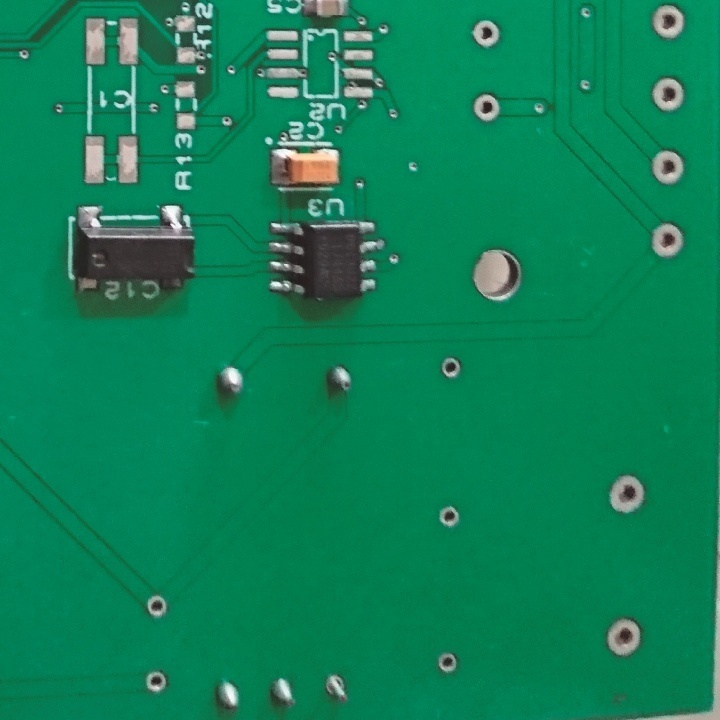F: (607, 470, 649, 524), (602, 615, 644, 658), (650, 145, 690, 189), (649, 218, 686, 263), (647, 3, 687, 44), (650, 75, 690, 115), (321, 669, 350, 706), (141, 591, 173, 623), (470, 20, 502, 49), (470, 92, 501, 121), (142, 667, 171, 696), (437, 353, 461, 384), (437, 504, 462, 531), (436, 651, 459, 677)
